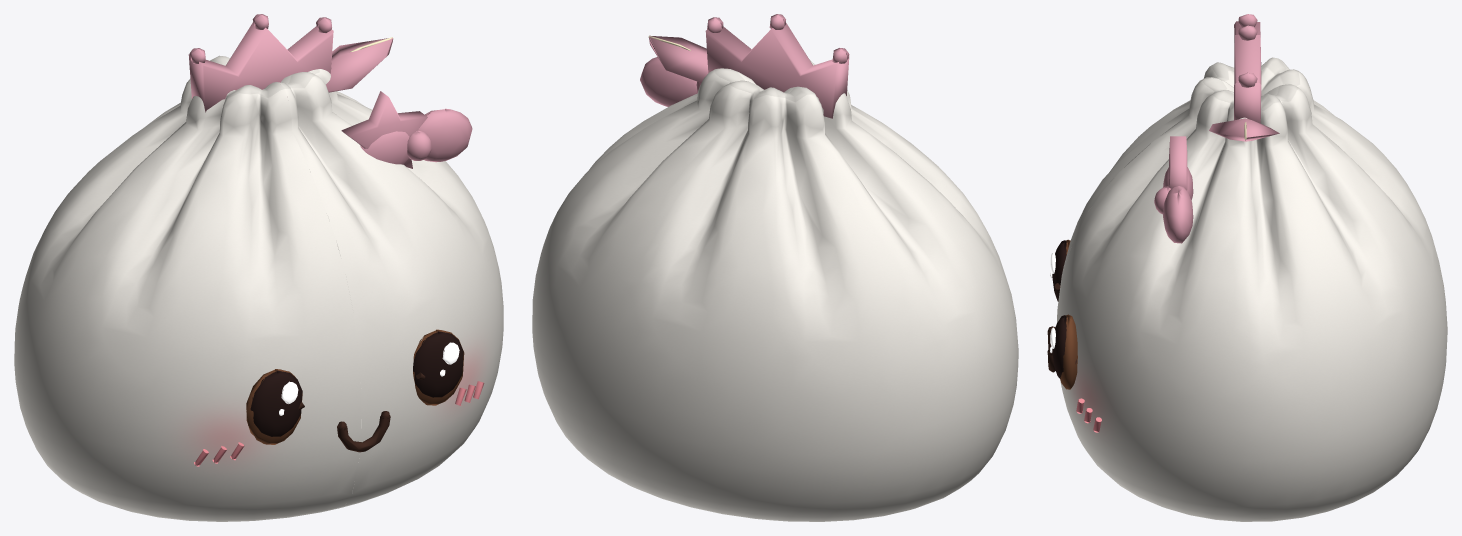
File: bao-squishy-display.glb
3 renders of one model, left to right at view 1: azimuth 30°, elevation 25°; view 2: azimuth 150°, elevation 25°; view 3: azimuth 270°, elevation 25°, orthographic. The views are drawn at different scales.
Visible parts, largest first — view 1: Dough, Rounded crown, PupilL, PupilR, Satin leaf, Puffy star charm, Bow soft loop.001, Bow soft loop, Smile, IrisL, Painted cheeks, Bow knot (+1 smaller); view 2: Dough, Rounded crown, Satin leaf, Bow soft loop.001; view 3: Dough, Rounded crown, Bow soft loop.001, Satin leaf, Puffy star charm, IrisR, PupilR, PupilL.
Boxes of the visible parts, x1=… form: Dough: x1=14, y1=55, x2=503, y2=521; Rounded crown: x1=188, y1=22, x2=333, y2=112; PupilL: x1=250, y1=370, x2=302, y2=436; PupilR: x1=413, y1=331, x2=463, y2=397; Satin leaf: x1=326, y1=38, x2=392, y2=92; Puffy star charm: x1=341, y1=91, x2=427, y2=168; Bow soft loop.001: x1=417, y1=108, x2=472, y2=162; Bow soft loop: x1=360, y1=131, x2=409, y2=164; Smile: x1=337, y1=411, x2=390, y2=452; IrisL: x1=246, y1=369, x2=302, y2=444; Painted cheeks: x1=194, y1=381, x2=484, y2=466; Bow knot: x1=407, y1=130, x2=431, y2=160; Dough: x1=532, y1=59, x2=1018, y2=521; Rounded crown: x1=705, y1=23, x2=849, y2=118; Satin leaf: x1=649, y1=35, x2=708, y2=82; Bow soft loop.001: x1=640, y1=57, x2=697, y2=106; Dough: x1=1057, y1=57, x2=1447, y2=521; Rounded crown: x1=1234, y1=21, x2=1261, y2=123; Bow soft loop.001: x1=1163, y1=186, x2=1193, y2=243; Satin leaf: x1=1209, y1=118, x2=1279, y2=141; Puffy star charm: x1=1169, y1=136, x2=1187, y2=190; IrisR: x1=1060, y1=314, x2=1077, y2=389; PupilR: x1=1052, y1=315, x2=1066, y2=378; PupilL: x1=1052, y1=240, x2=1066, y2=301.
Bounding box in the file's own units: 1.12 × 1.09 × 0.922.
8 materials, 1 textured.
